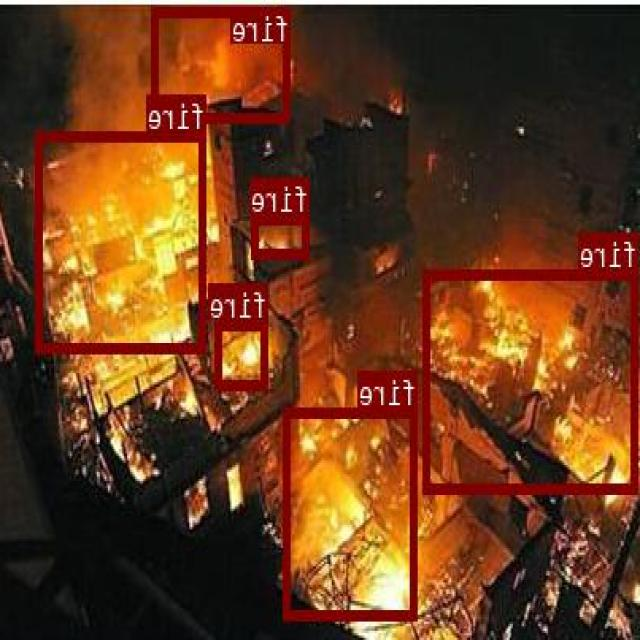fire: (426, 268, 639, 492), (37, 130, 208, 352), (285, 407, 419, 619), (153, 5, 292, 121), (217, 319, 270, 388), (253, 214, 310, 258)
